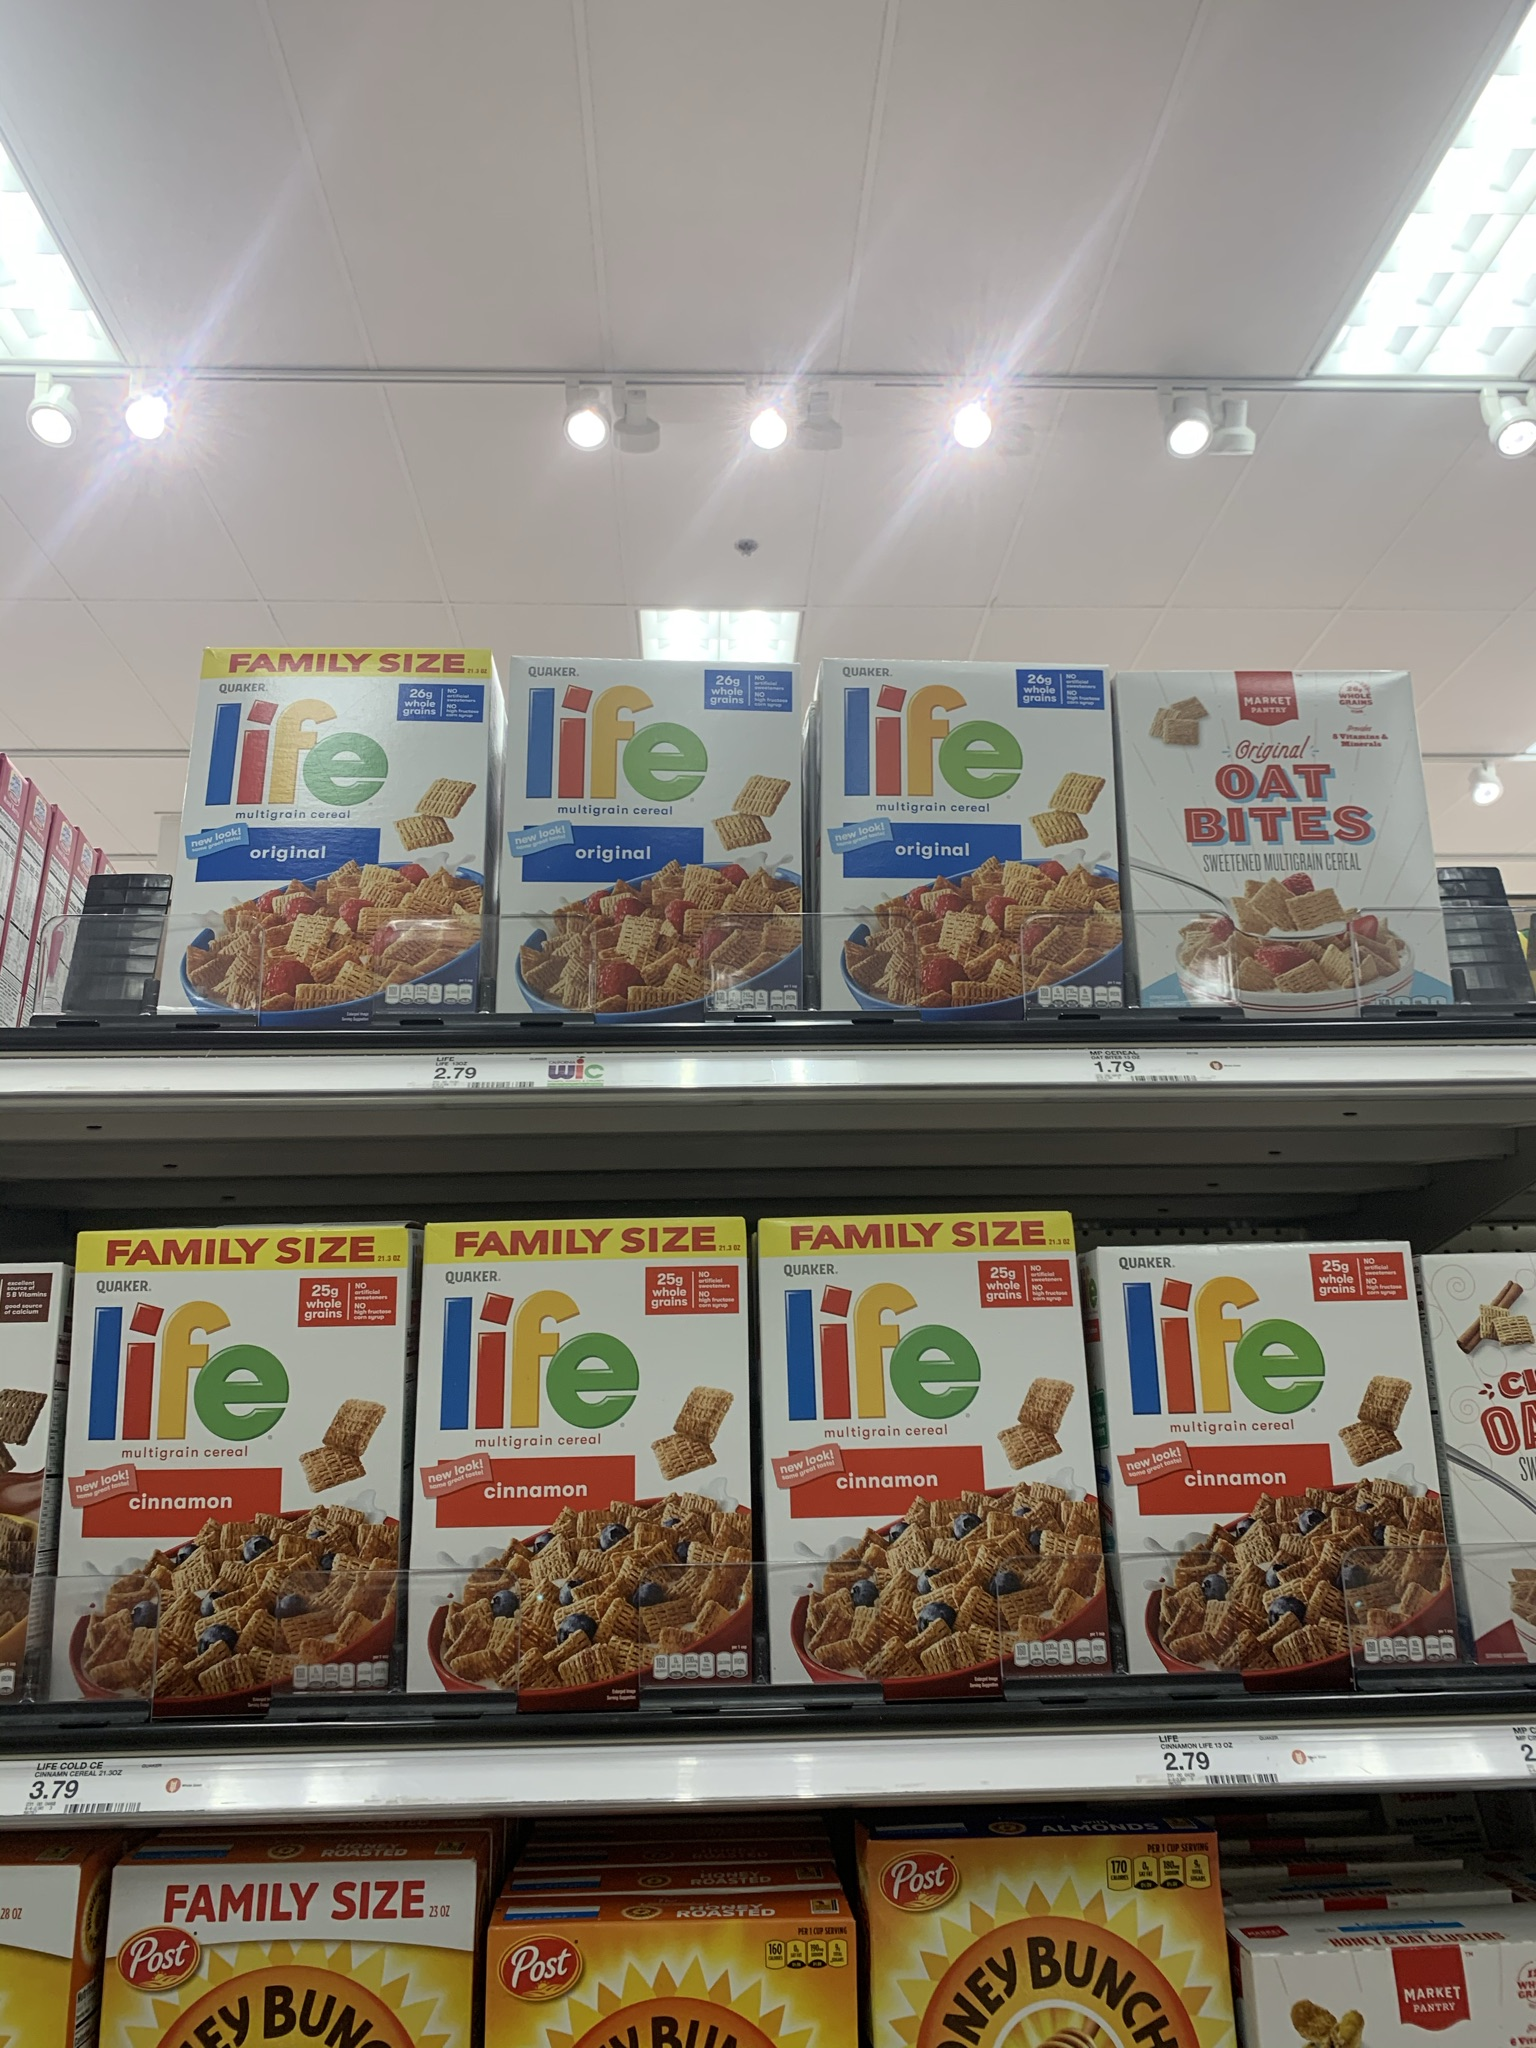Cereal life: (424, 1229, 766, 1679), (98, 1229, 403, 1705), (783, 1221, 1099, 1659), (1120, 1259, 1459, 1659), (824, 664, 1129, 1014), (1147, 679, 1447, 1024), (515, 661, 807, 1011), (203, 656, 487, 1011)
